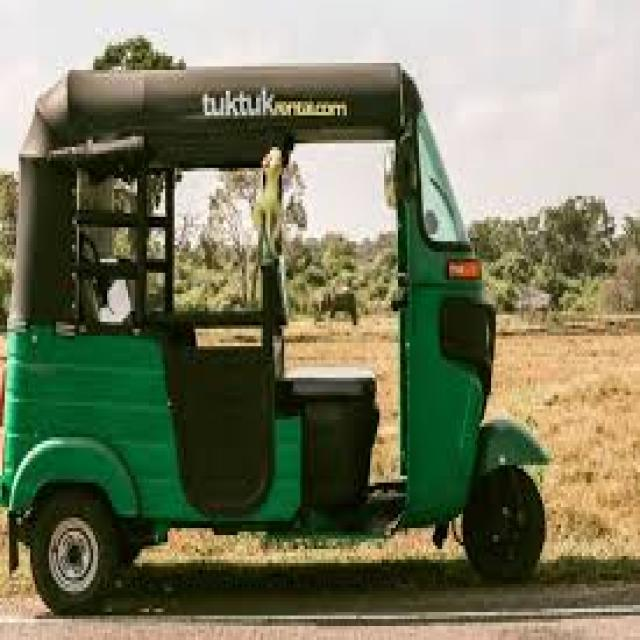tuktuk: (0, 6, 600, 640)
